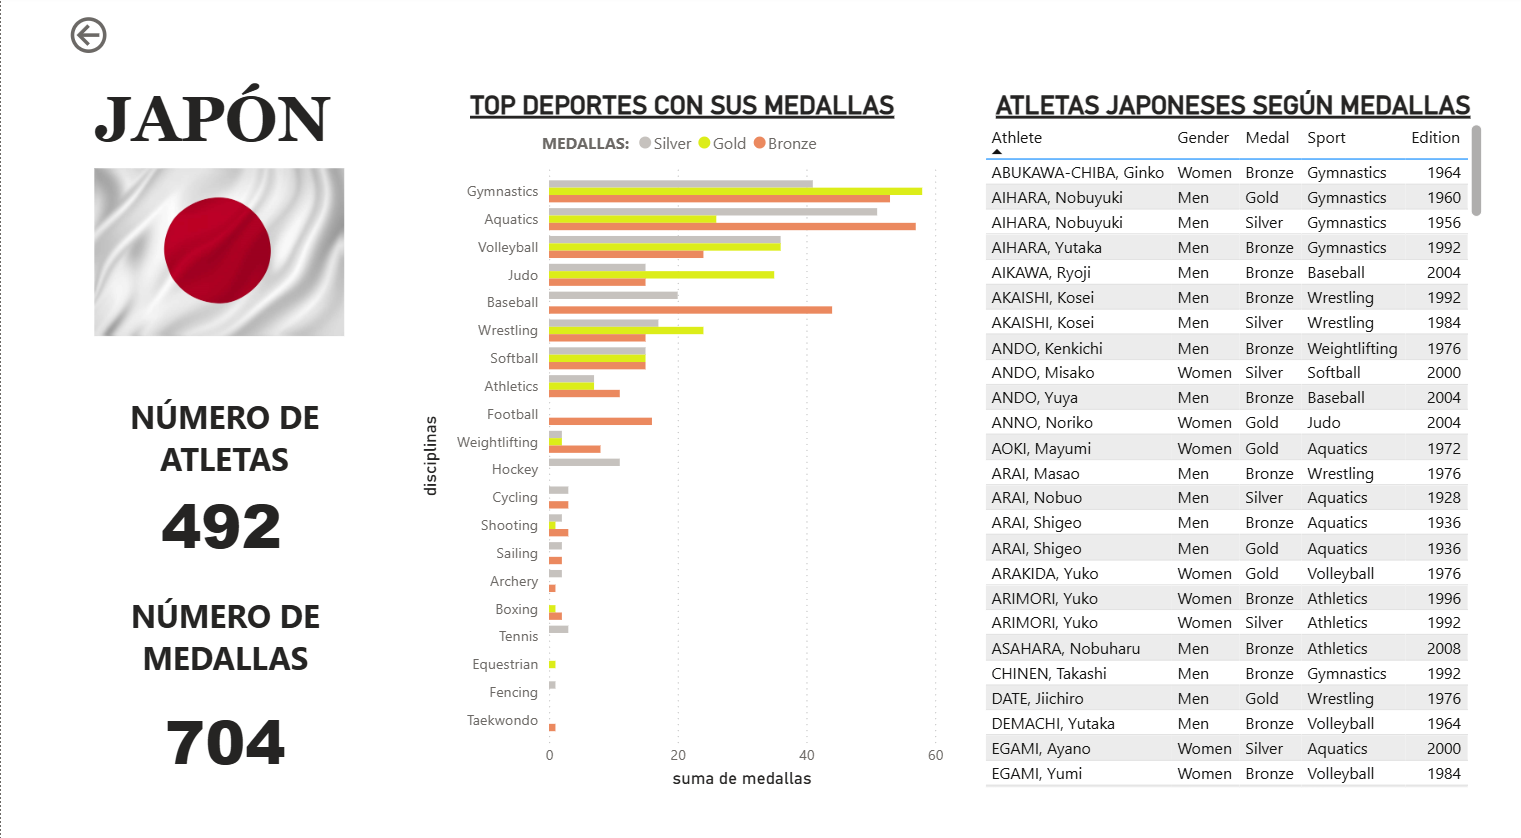

The page's visual inventory and layout, read from the dashboard file:
{"tool":"powerbi","page":{"name":"deportes-medallas","canvas":[1280,720],"ordinal":0},"visuals":[{"type":"clusteredBarChart","title":"TOP DEPORTES CON SUS MEDALLAS","fields":{"Category":["ALL MEDALISTS.Sport"],"Series":["ALL MEDALISTS.Medal"],"Y":["CountNonNull(ALL MEDALISTS.Medal)"]},"box":[347.1,80,448.6,590],"z":0},{"type":"card","fields":{"Values":["CountNonNull(ALL MEDALISTS.Medal)"]},"box":[62.1,578.2,253.1,92],"z":1000},{"type":"actionButton","box":[53.7,13.7,100,40],"z":2000},{"type":"tableEx","title":"ATLETAS JAPONESES SEGÚN MEDALLAS","fields":{"Values":["ALL MEDALISTS.Athlete","ALL MEDALISTS.Gender","ALL MEDALISTS.Medal","ALL MEDALISTS.Sport","ALL MEDALISTS.Edition"]},"box":[820,80,427.1,590],"z":3000},{"type":"card","fields":{"Values":["Count(ALL MEDALISTS.Athlete)"]},"box":[58.6,398,253.1,89.3],"z":4000},{"type":"textbox","box":[53.2,330.3,268,83.9],"z":5000},{"type":"textbox","box":[64.8,497,246.3,81.2],"z":6000},{"type":"image","box":[53.2,140.5,259.8,150.2],"z":7000},{"type":"textbox","box":[73.5,68.8,231.4,71.7],"z":8000}]}

Visuals, with their boxes in screenshot pixels (x1, y1, x2, y2), scaled from the page's 1280x720 canvas onto the 1521x838 screenshot:
"TOP DEPORTES CON SUS MEDALLAS" clusteredBarChart: region(412, 93, 946, 780)
card - CountNonNull(ALL MEDALISTS.Medal): region(74, 673, 375, 780)
actionButton: region(64, 16, 183, 63)
"ATLETAS JAPONESES SEGÚN MEDALLAS" tableEx: region(974, 93, 1482, 780)
card - Count(ALL MEDALISTS.Athlete): region(70, 463, 370, 567)
textbox: region(63, 384, 382, 482)
textbox: region(77, 578, 370, 673)
image: region(63, 164, 372, 338)
textbox: region(87, 80, 362, 164)
